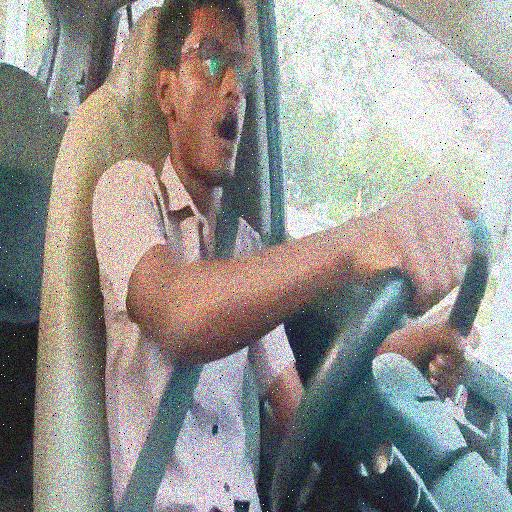yawns: (156, 0, 253, 189)
